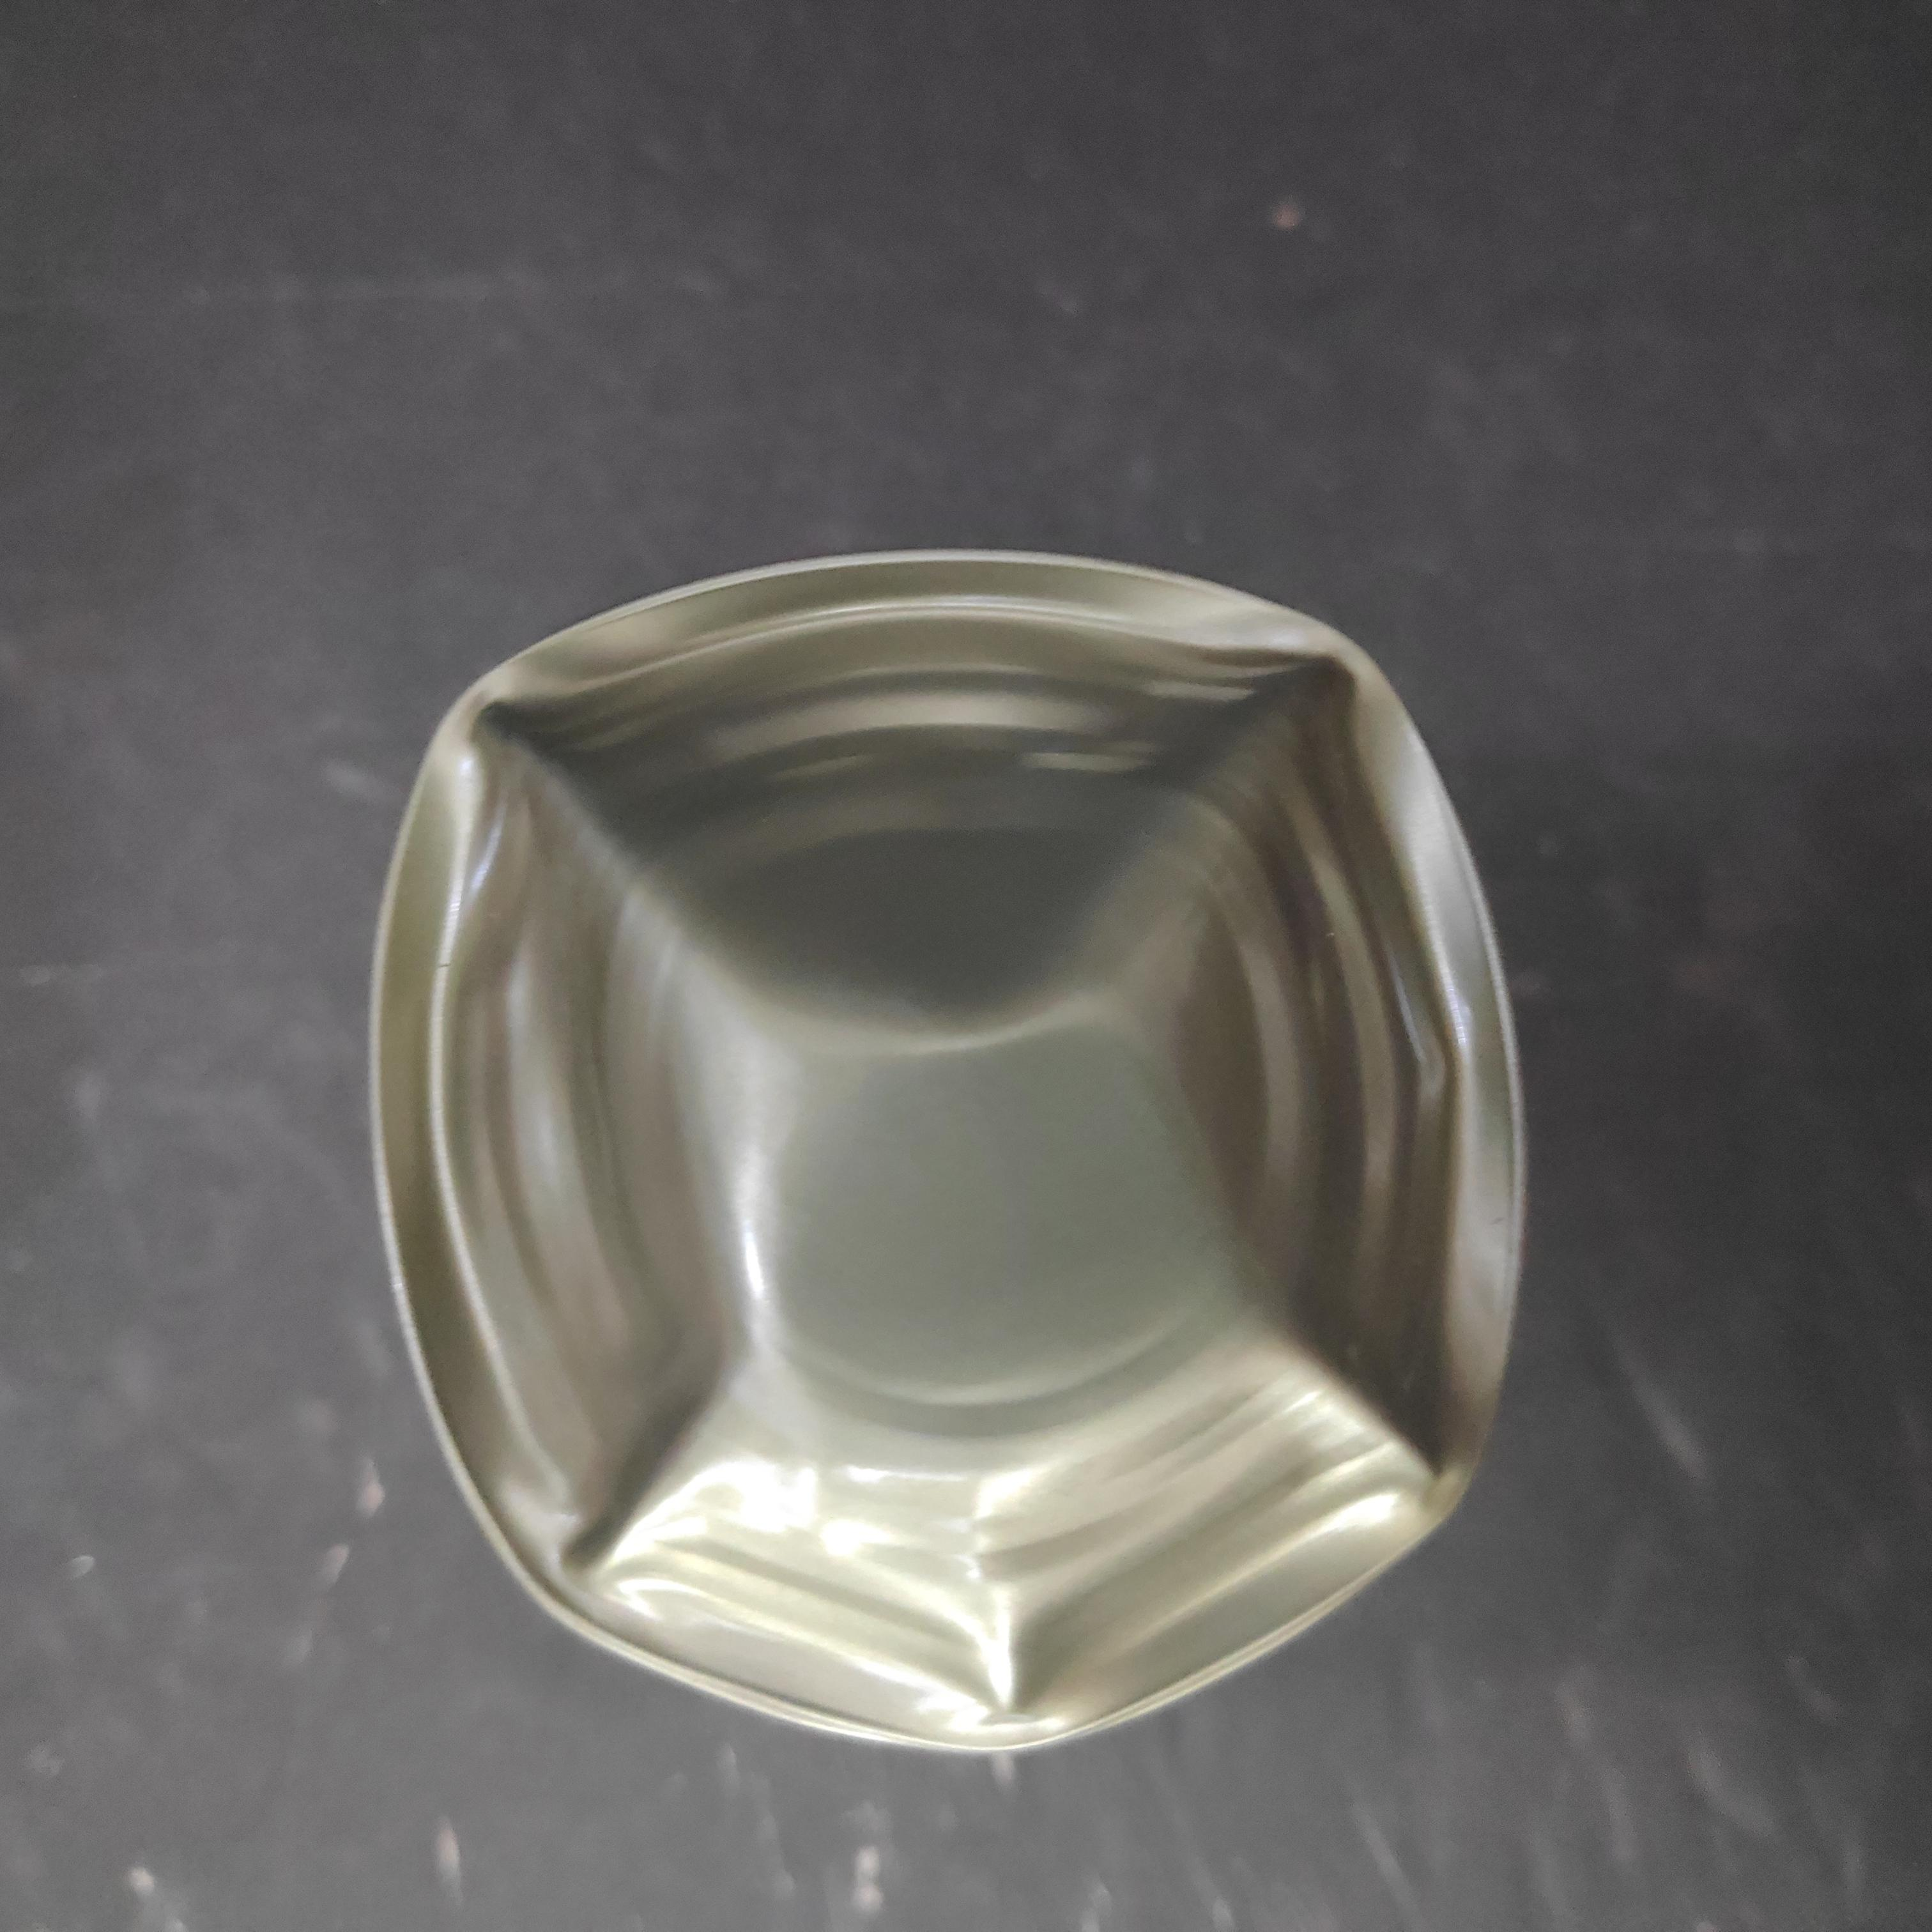Critical Defect: (173, 359, 1396, 1553)
